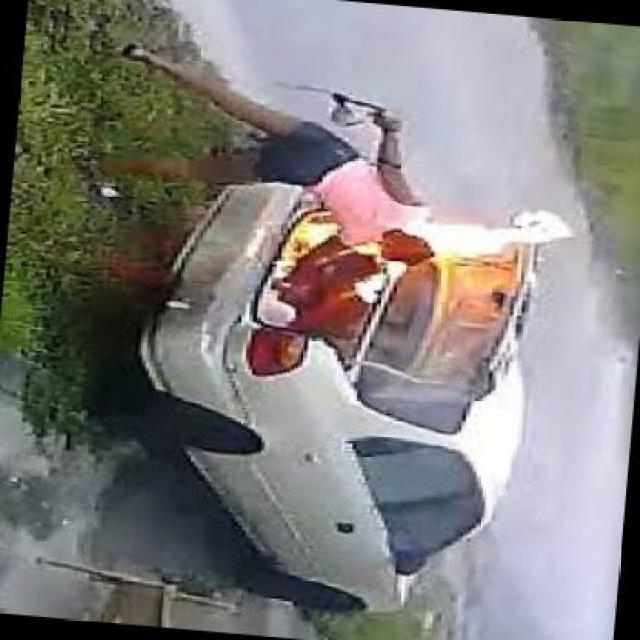Fire: (418, 206, 568, 274), (287, 224, 388, 318)
